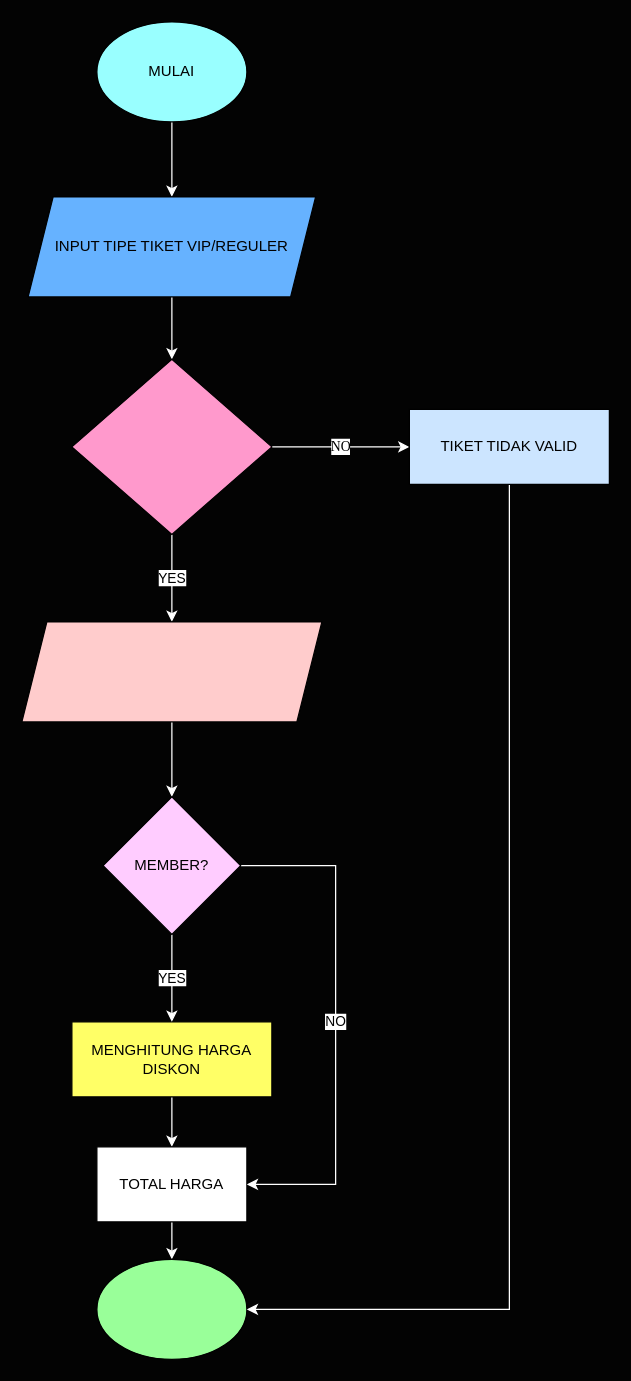
The diagram is 631 pixels wide and 1381 high, and some of its shapes have lost their labels. The box of each missing label's shape, as (x1, y1, x2, y2) in pixels:
INPUT STATUS MEMBER YA/TIDAK: (21, 621, 322, 722)
SELESAI: (96, 1258, 247, 1359)
TIPE TIKET VALID?: (71, 358, 272, 534)
